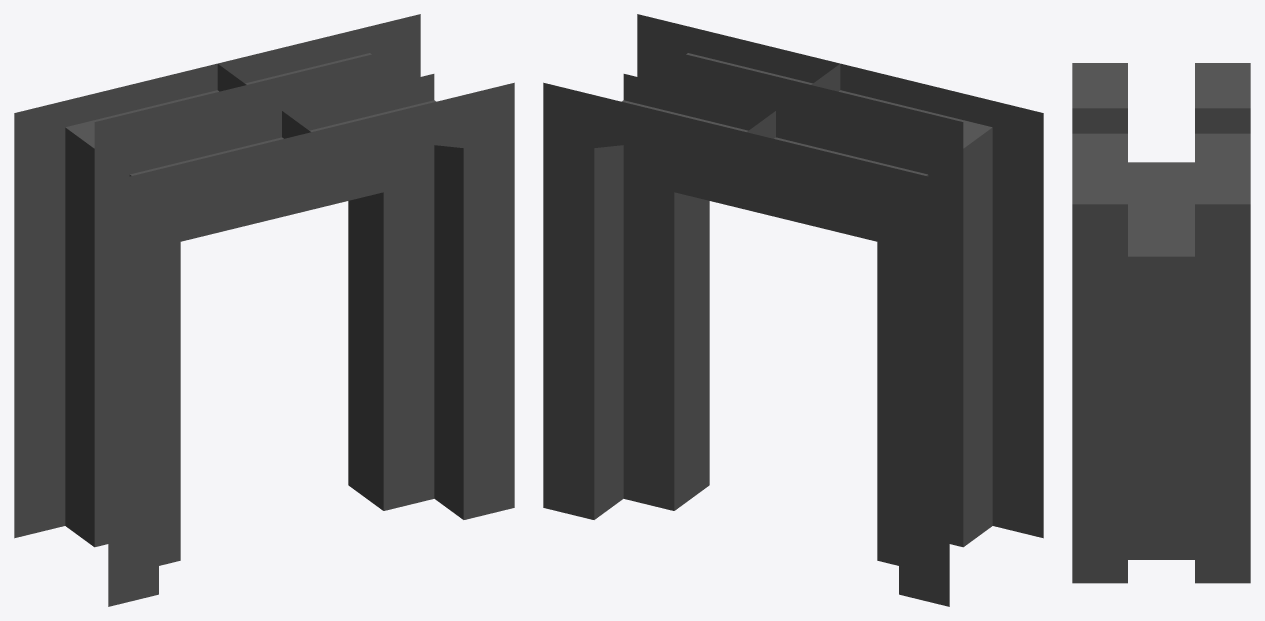
The model's file is doorframe.obj.
3 views of the same model, side by side, from view 1: azimuth 30°, elevation 25°; view 2: azimuth 150°, elevation 25°; view 3: azimuth 270°, elevation 25° (orthographic). The views are drawn at different scales.
Visible parts, largest first — view 1: Cube.002; view 2: Cube.002; view 3: Cube.002.
Part boxes in pixels (left/top/right/bottom): Cube.002: left=14, top=14, right=514, bottom=606; Cube.002: left=543, top=14, right=1043, bottom=606; Cube.002: left=1072, top=63, right=1250, bottom=583.
Bounding box in the file's own units: 4 × 4 × 1.6.
